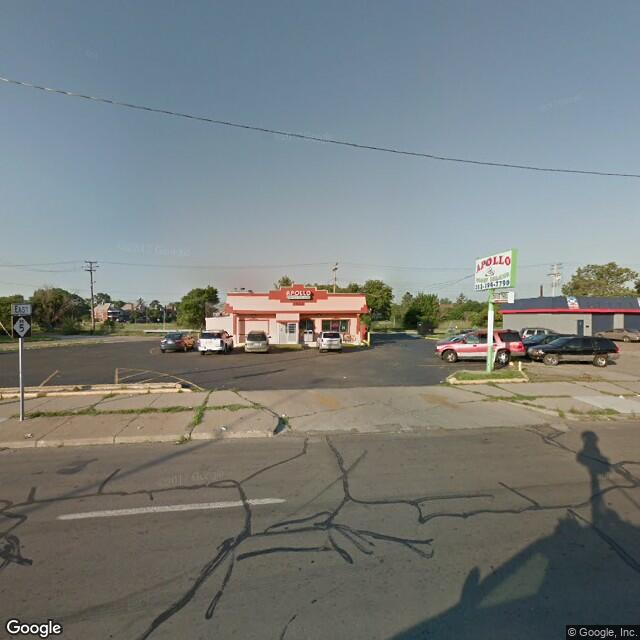litter: (129, 421, 146, 433), (213, 422, 232, 432), (22, 431, 38, 442), (276, 409, 290, 421), (614, 391, 629, 402)
